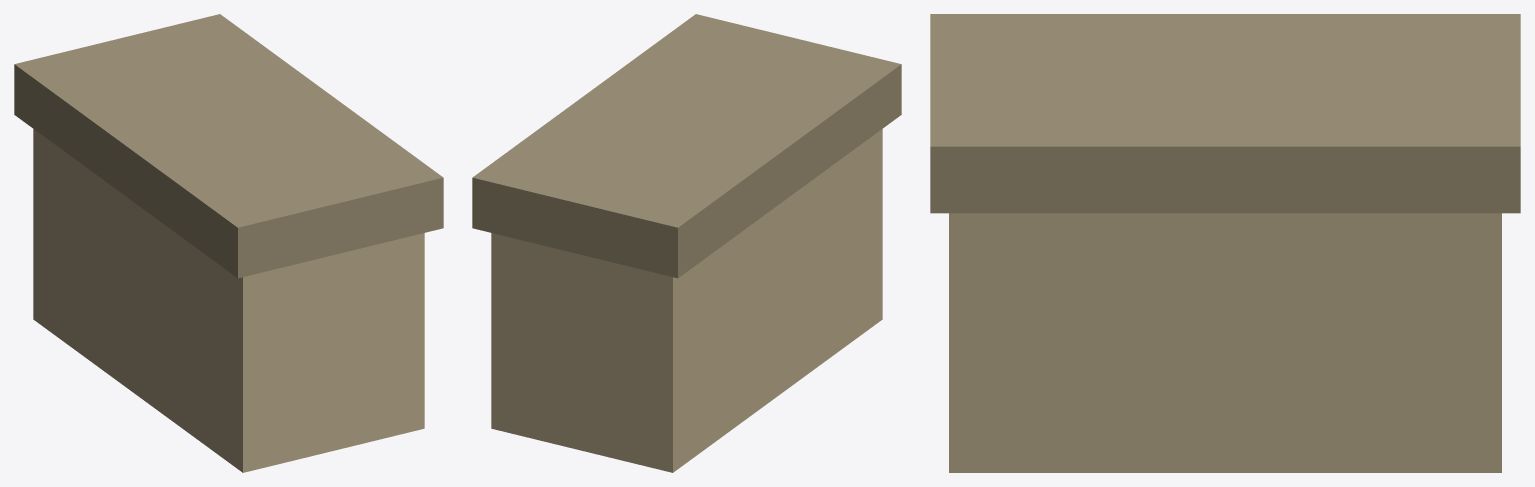
Rendered from sarcofago_arenisca_01.glb.
3 renders of one model, left to right at view 1: azimuth 30°, elevation 25°; view 2: azimuth 150°, elevation 25°; view 3: azimuth 270°, elevation 25°, orthographic. The views are drawn at different scales.
Parts seen in each view (by area): view 1: sarcofago_arenisca; view 2: sarcofago_arenisca; view 3: sarcofago_arenisca.
Boxes of the visible parts, box(x1,y1,x2,y2) form: sarcofago_arenisca: box(14, 14, 443, 472); sarcofago_arenisca: box(472, 14, 901, 472); sarcofago_arenisca: box(930, 14, 1520, 472).
Bounding box in the file's own units: 1.13 × 1.33 × 2.13.
